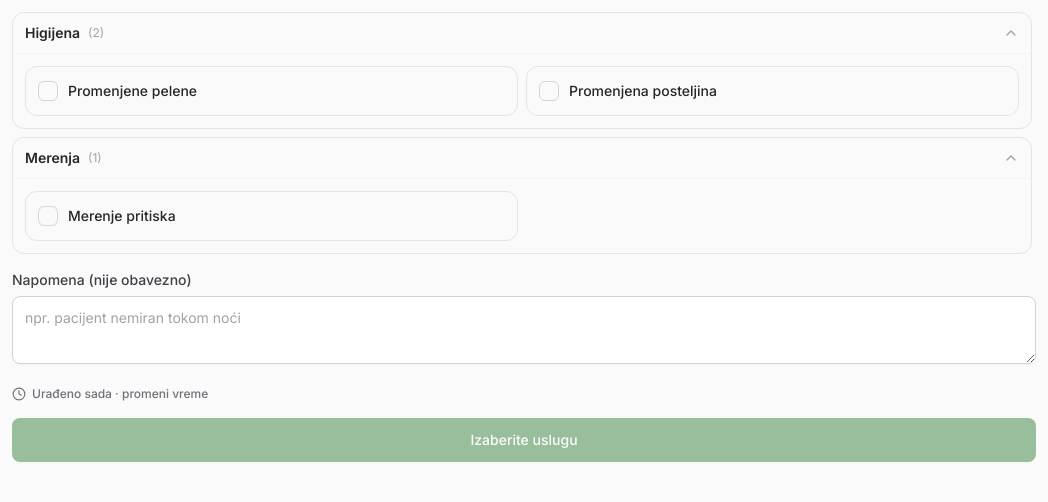
Scenario: CareTaskPicker › više usluga odjednom, sa brojem puta, u jednom zahtevu
Step 1. Click the button "Promenjene pelene" → (133, 90), box [26, 67, 517, 115]
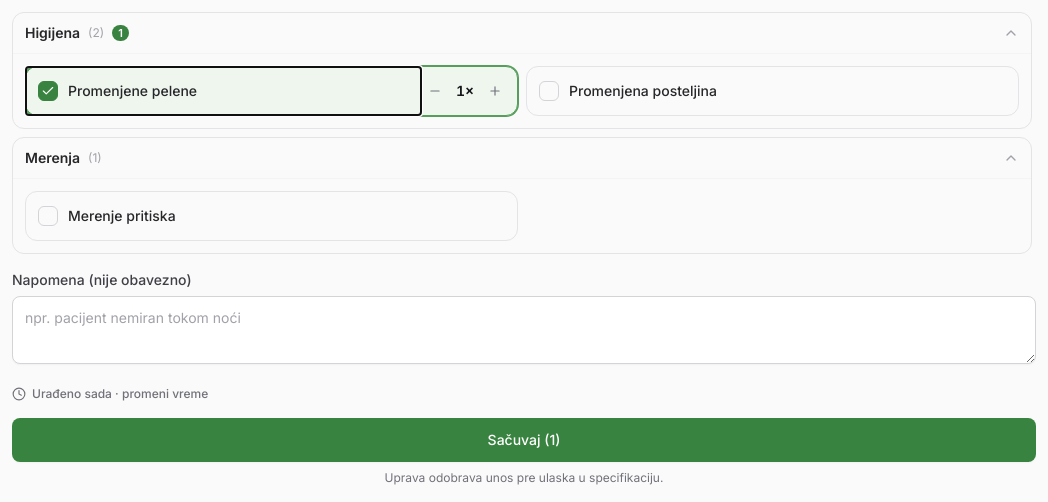
Step 2. Click the button named "Više: Promenjene pelene" → (495, 91), box [481, 77, 509, 105]
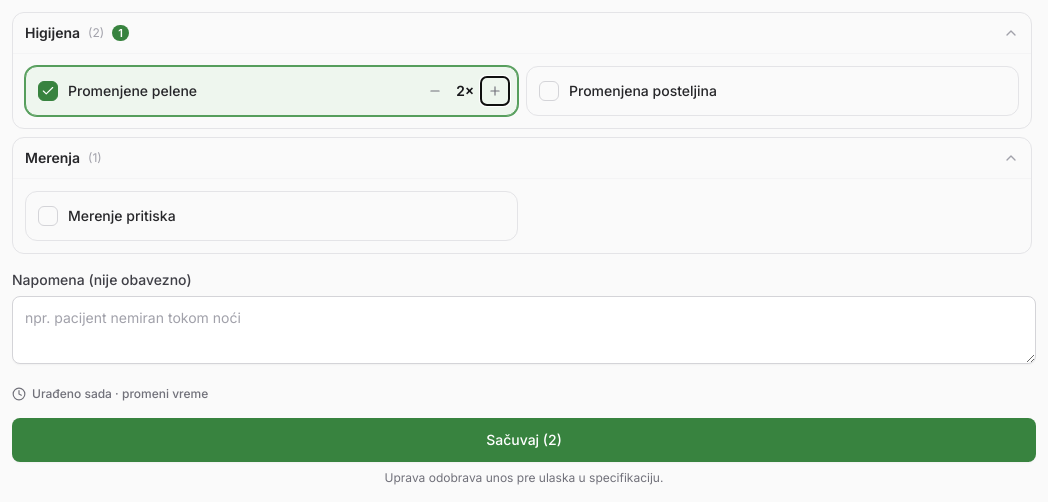
Step 3. Click the button "Promenjena posteljina" → (643, 90), box [527, 67, 1018, 115]
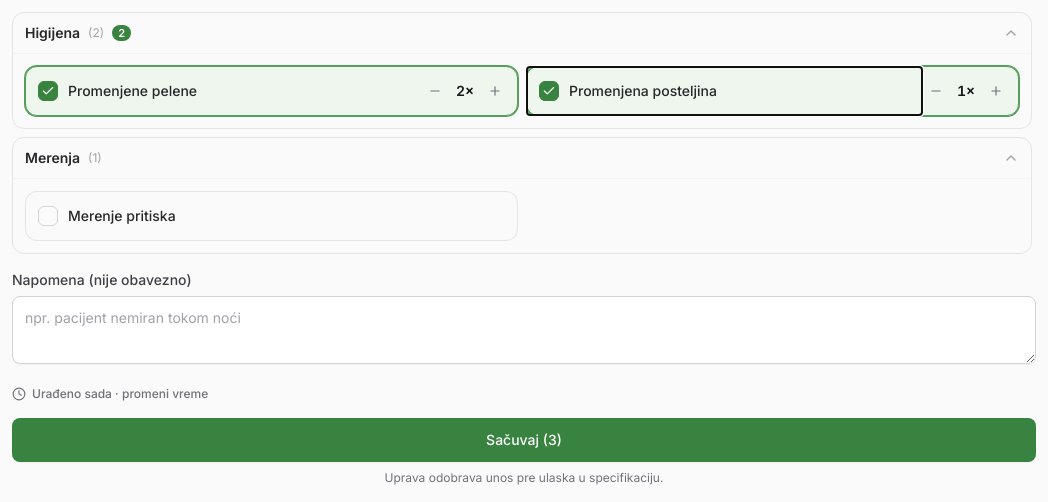
Check: the text "Uprava odobrava unos pre ulaska u specifikaciju." is shown, box [385, 470, 663, 484]
Step 4. Click the button "Sačuvaj (3)" → (524, 440), box [12, 418, 1036, 462]
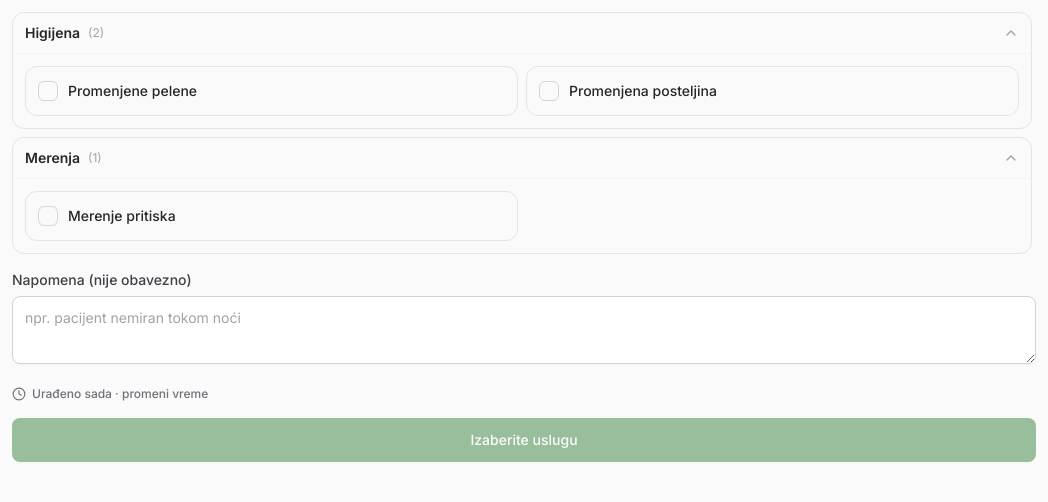
Check: the button "Promenjene pelene" is not pressed, box [26, 67, 517, 115]
